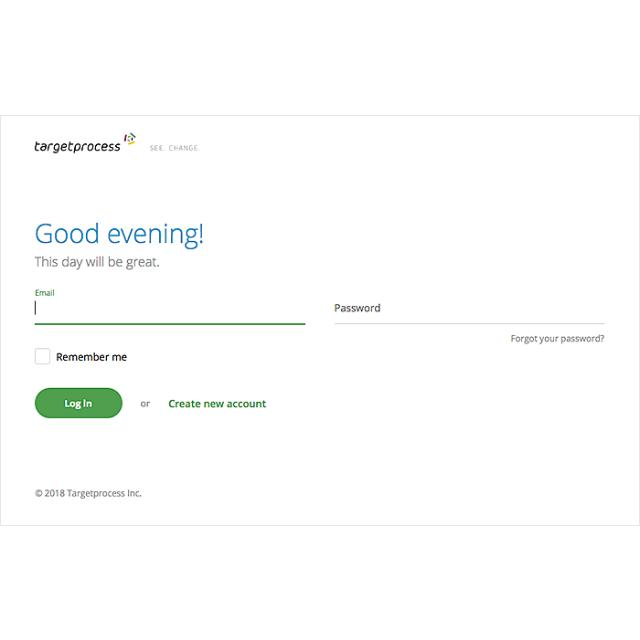QLabel: (32, 218, 206, 250), (35, 254, 159, 270), (510, 332, 606, 344), (34, 488, 144, 498), (167, 399, 267, 409), (55, 351, 127, 362), (146, 140, 202, 152), (63, 398, 93, 409), (140, 400, 150, 408)
VBtn: (35, 387, 123, 419)
VCheckbox: (32, 344, 52, 368)
VImg: (28, 126, 136, 160)
VTextField: (31, 284, 307, 330), (333, 296, 607, 328)
